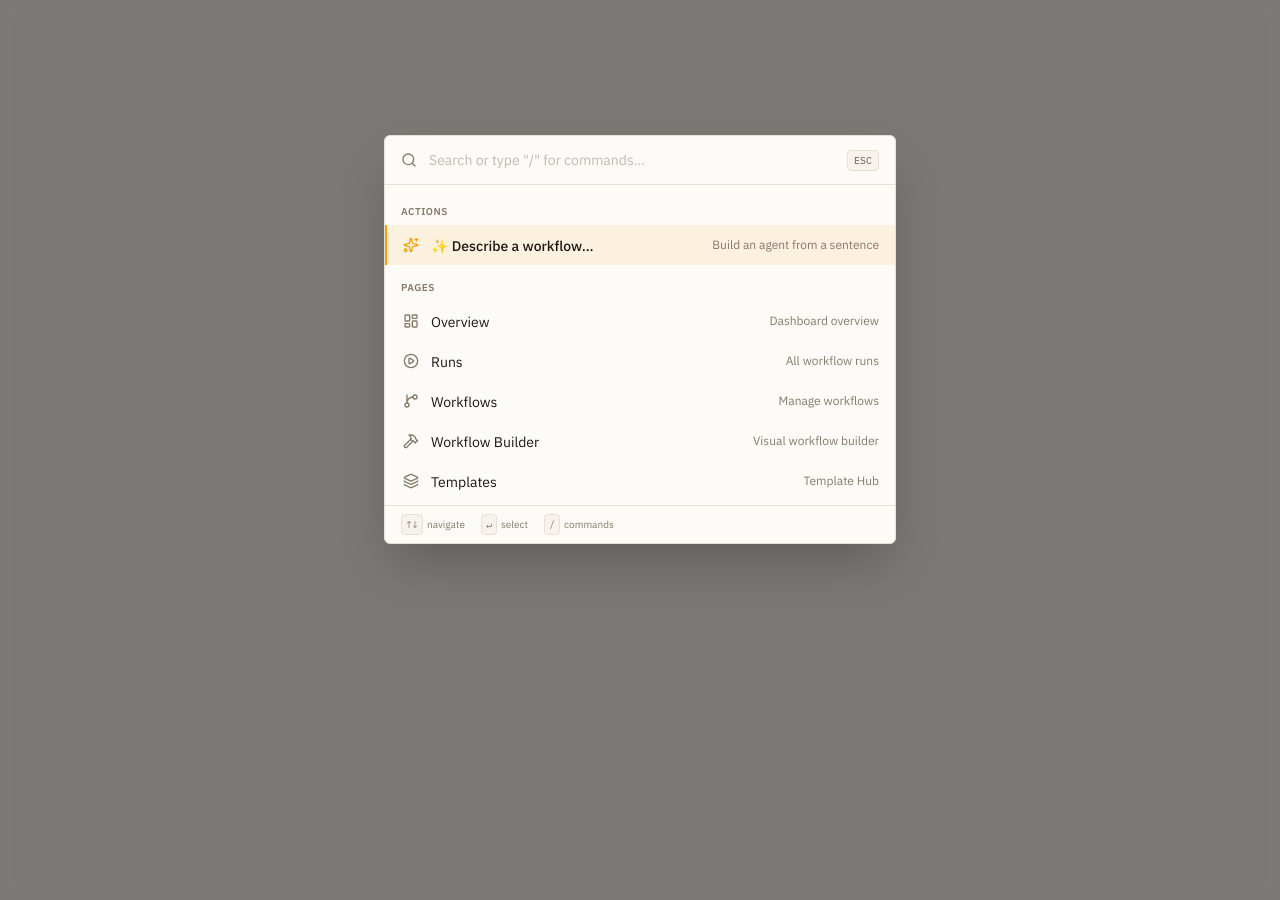
Test: CommandPalette › still shows page matches when the API is down
The image size is (1280, 900).
Type "settings" into the dropdown at (632, 160), box [429,136,835,184]
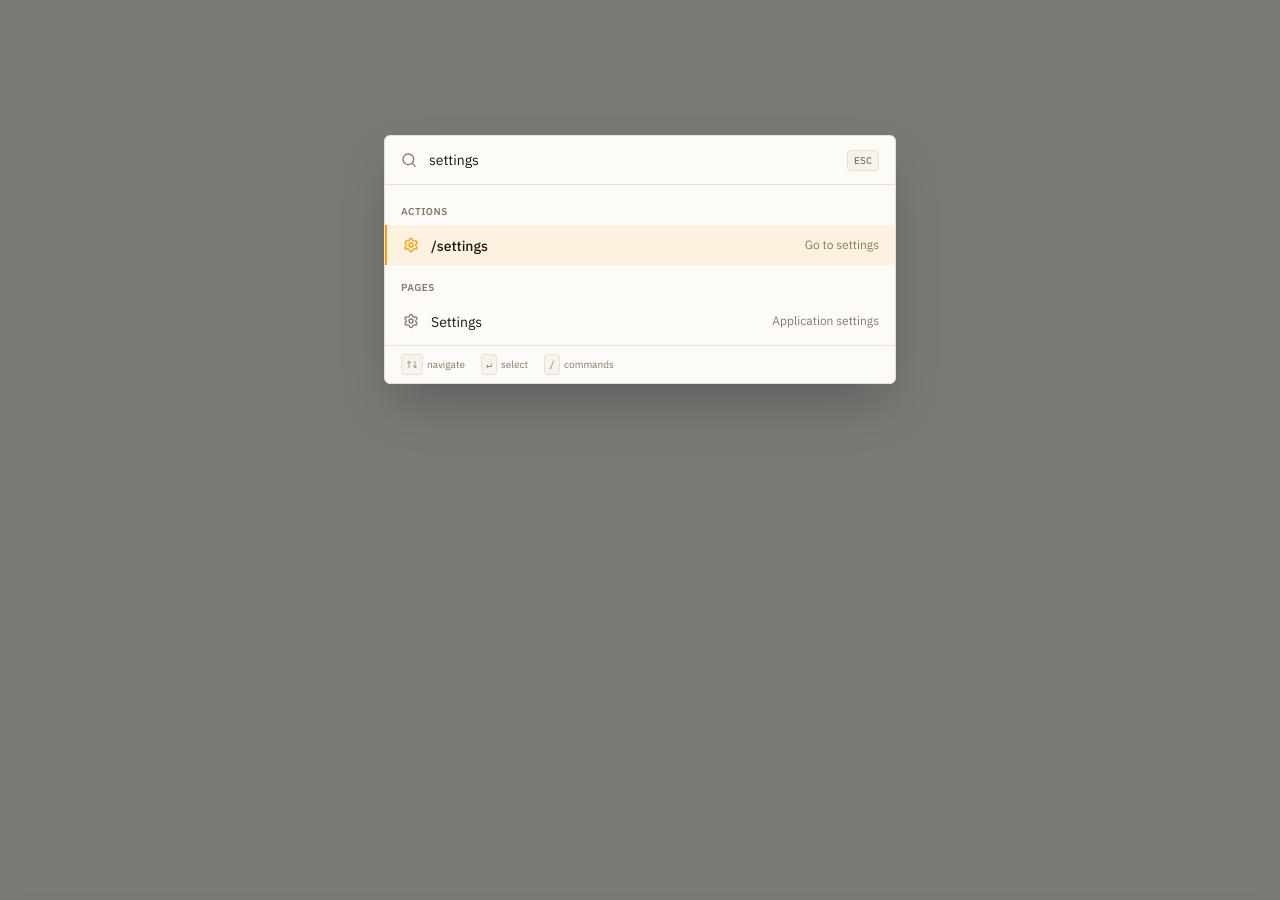
expect the text "Settings" is shown: met, box [431,313,482,331]
